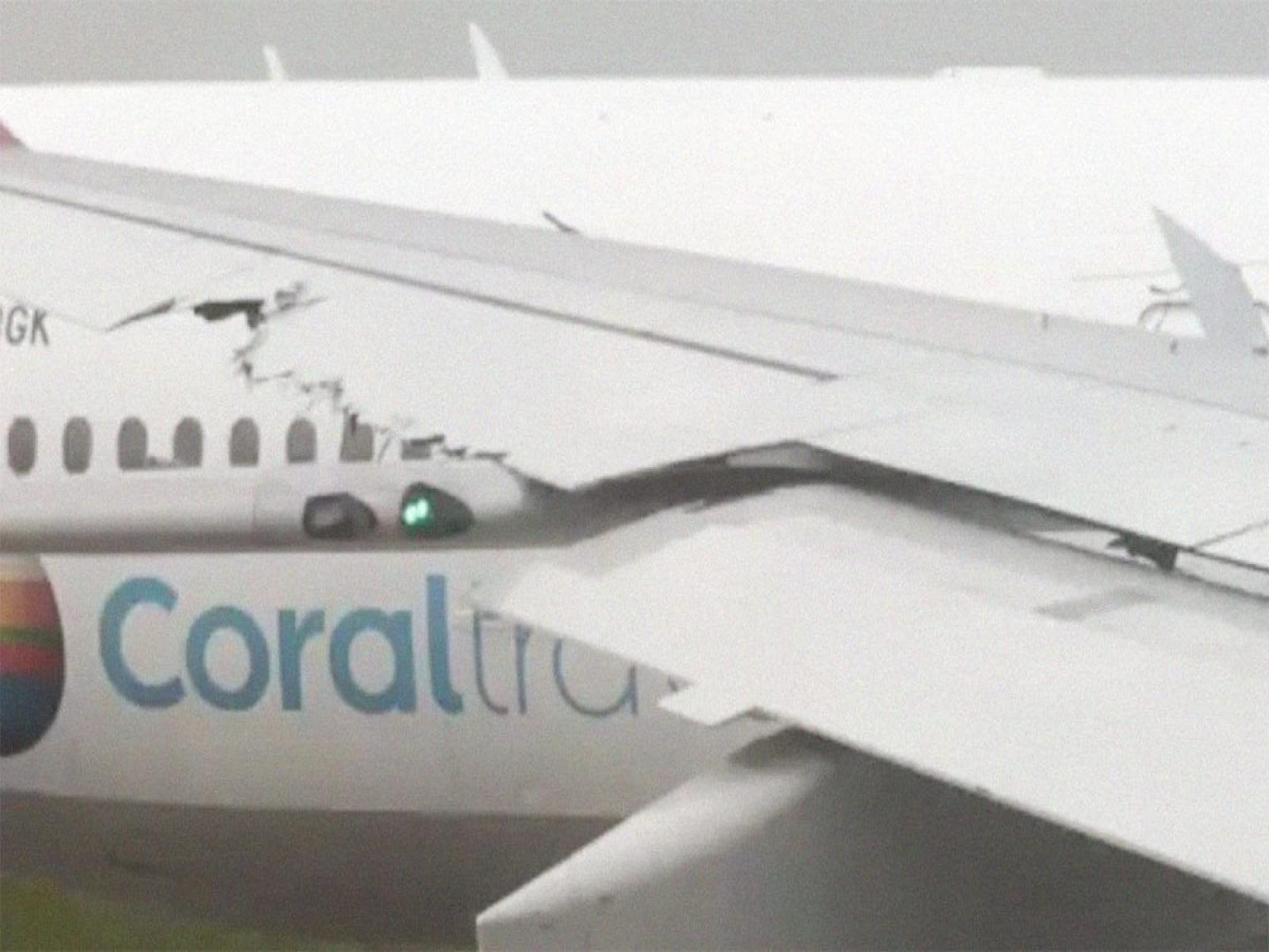Wing_damage: (106, 283, 508, 463), (191, 283, 320, 382), (271, 369, 360, 429)
